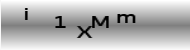1: (53, 15, 66, 28)
M: (90, 13, 111, 30)
X: (75, 24, 92, 40)
i: (22, 6, 30, 21)
m: (115, 11, 137, 25)
